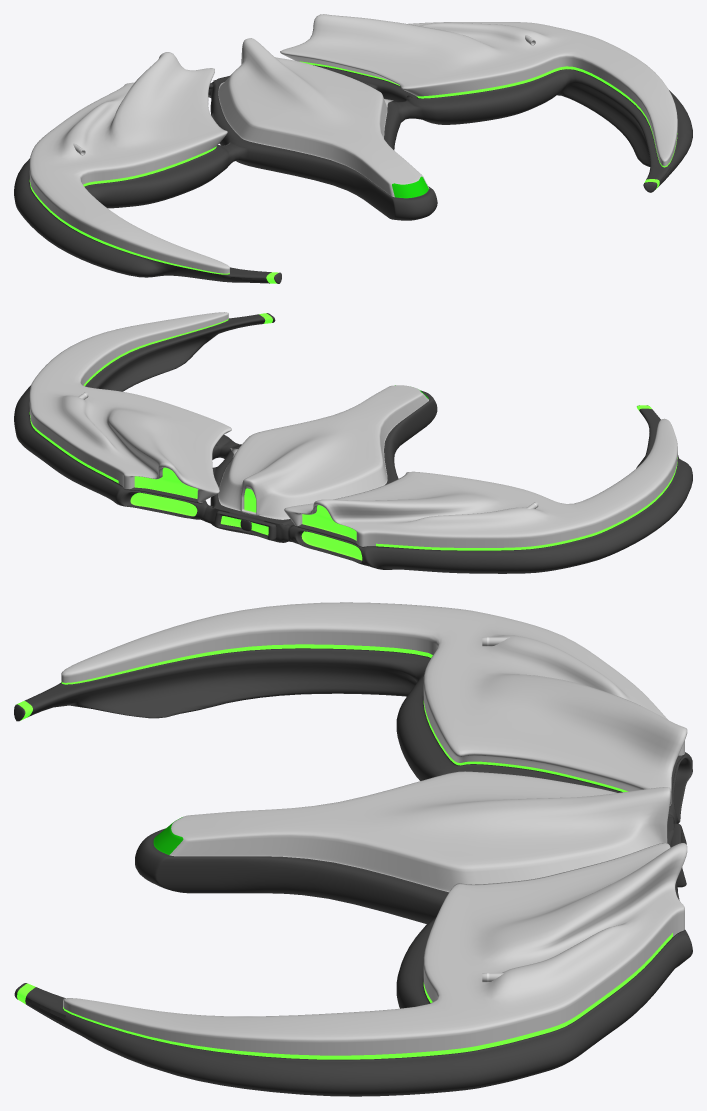
The model's file is spaceship.fbx.
3 renders of one model, top to bottom at view 1: azimuth 30°, elevation 25°; view 2: azimuth 150°, elevation 25°; view 3: azimuth 270°, elevation 25°, orthographic. The views are drawn at different scales.
Parts seen in each view (by area): view 1: Plane; view 2: Plane; view 3: Plane.
Part boxes in pixels (x1=…): Plane: x1=14, y1=14, x2=692, y2=283; Plane: x1=14, y1=312, x2=692, y2=573; Plane: x1=14, y1=602, x2=692, y2=1096.
Size of the model in its own units: 171 by 17.28 by 107.
